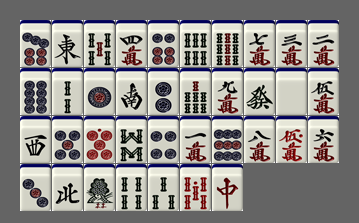0m: (276, 116, 307, 163)
0p: (84, 116, 115, 163)
0s: (180, 164, 211, 211)
1m: (180, 116, 211, 163)
1p: (84, 68, 115, 115)
1s: (84, 164, 115, 211)
1z: (52, 20, 83, 67)
2m: (308, 20, 339, 67)
2p: (148, 68, 179, 115)
2s: (52, 68, 83, 115)
2z: (116, 68, 147, 115)
3m: (276, 20, 307, 67)
3p: (20, 164, 51, 211)
3s: (148, 164, 179, 211)
3z: (20, 116, 51, 163)
4m: (116, 20, 147, 67)
4p: (148, 116, 179, 163)
4s: (116, 164, 147, 211)
4z: (52, 164, 83, 211)
5m: (308, 68, 339, 115)
5p: (52, 116, 83, 163)
5s: (84, 20, 115, 67)
5z: (276, 68, 307, 115)
6m: (308, 116, 339, 163)
6p: (148, 20, 179, 67)
6s: (180, 20, 211, 67)
6z: (244, 68, 275, 115)
7m: (244, 20, 275, 67)
7p: (20, 20, 51, 67)
7s: (180, 68, 211, 115)
7z: (212, 164, 243, 211)
8m: (244, 116, 275, 163)
8p: (20, 68, 51, 115)
8s: (116, 116, 147, 163)
9m: (212, 68, 243, 115)
9p: (212, 116, 243, 163)
9s: (212, 20, 243, 67)
